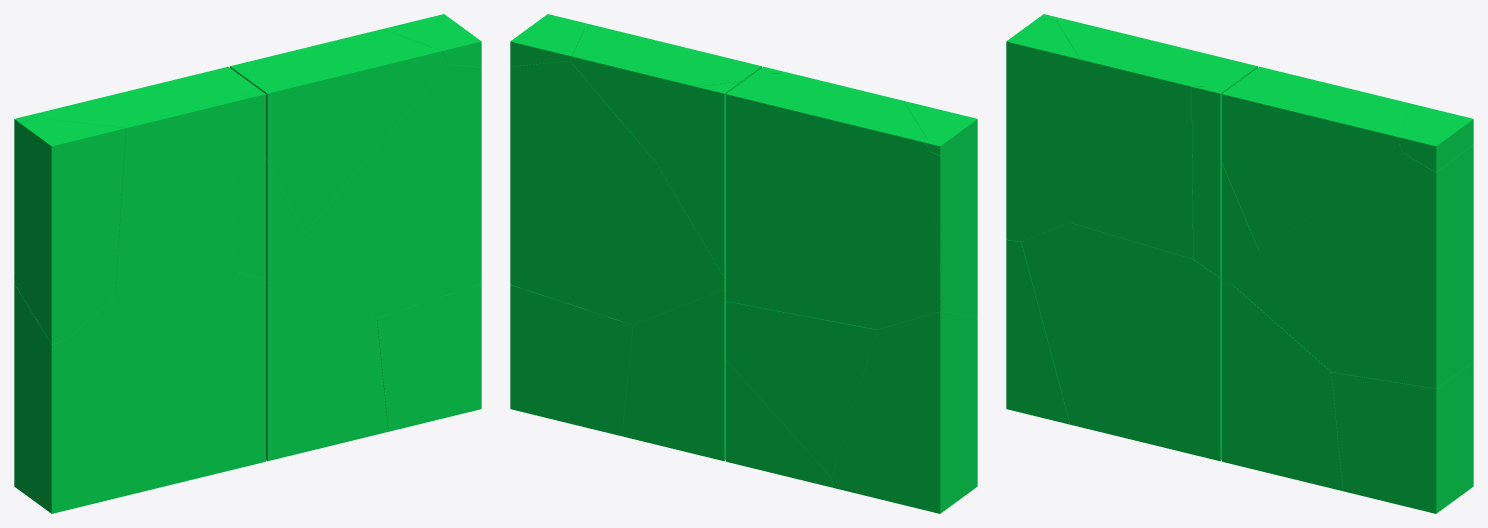
Rendered from BreakableWall1.fbx.
The picture shows the model from 3 angles, left to right: view 1: azimuth 30°, elevation 25°; view 2: azimuth 150°, elevation 25°; view 3: azimuth 330°, elevation 25°; orthographic projection.
Visible parts, largest first — view 1: Cube.060_cell, Cube.059_cell.005, Cube.060_cell.007, Cube.059_cell, Cube.060_cell.001, Cube.059_cell.001, Cube.060_cell.002, Cube.059_cell.003, Cube.060_cell.005, Cube.059_cell.002, Cube.059_cell.004; view 2: Cube.060_cell.007, Cube.059_cell.005, Cube.060_cell.002, Cube.060_cell, Cube.059_cell.003, Cube.059_cell.001, Cube.059_cell, Cube.060_cell.001, Cube.059_cell.002, Cube.060_cell.006, Cube.059_cell.004; view 3: Cube.059_cell.005, Cube.060_cell, Cube.060_cell.007, Cube.059_cell, Cube.059_cell.001, Cube.059_cell.003, Cube.060_cell.001, Cube.060_cell.002, Cube.060_cell.005, Cube.059_cell.004, Cube.059_cell.002.
Boxes of the visible parts, x1,y1,x2,y2 form: Cube.060_cell: [67, 273, 265, 498]; Cube.059_cell.005: [278, 64, 481, 318]; Cube.060_cell.007: [14, 66, 256, 296]; Cube.059_cell: [247, 29, 447, 232]; Cube.060_cell.001: [14, 118, 125, 344]; Cube.059_cell.001: [266, 279, 388, 461]; Cube.060_cell.002: [14, 284, 115, 513]; Cube.059_cell.003: [376, 284, 481, 431]; Cube.060_cell.005: [237, 88, 265, 278]; Cube.059_cell.002: [230, 59, 304, 282]; Cube.059_cell.004: [383, 14, 481, 67]; Cube.060_cell.007: [726, 73, 940, 329]; Cube.059_cell.005: [510, 57, 725, 324]; Cube.060_cell.002: [831, 311, 977, 513]; Cube.060_cell: [726, 301, 876, 477]; Cube.059_cell.003: [510, 284, 632, 435]; Cube.059_cell.001: [622, 287, 725, 461]; Cube.059_cell: [570, 23, 761, 162]; Cube.060_cell.001: [903, 101, 977, 316]; Cube.059_cell.002: [656, 81, 741, 277]; Cube.060_cell.006: [726, 360, 832, 487]; Cube.059_cell.004: [510, 14, 586, 66]; Cube.059_cell.005: [1232, 144, 1473, 388]; Cube.060_cell: [1021, 222, 1221, 461]; Cube.060_cell.007: [1056, 18, 1257, 258]; Cube.059_cell: [1222, 73, 1411, 251]; Cube.059_cell.001: [1222, 283, 1342, 490]; Cube.059_cell.003: [1331, 362, 1473, 513]; Cube.060_cell.001: [1006, 18, 1080, 241]; Cube.060_cell.002: [1006, 239, 1069, 424]; Cube.060_cell.005: [1192, 86, 1229, 277]; Cube.059_cell.004: [1397, 104, 1473, 172]; Cube.059_cell.002: [1222, 66, 1286, 284].
Size of the model in its own units: 544 by 445 by 82.4.
